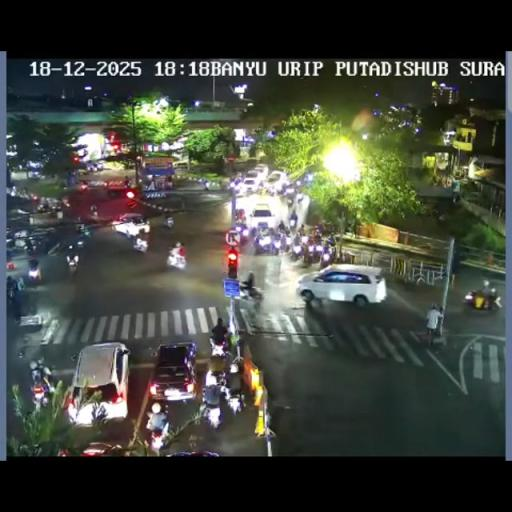Car: (68, 342, 130, 424), (297, 264, 387, 306), (148, 342, 198, 403), (111, 214, 150, 238), (249, 202, 275, 230), (76, 441, 122, 455), (106, 178, 134, 197), (266, 170, 288, 192), (242, 176, 262, 193), (252, 164, 270, 178)
Motorcycle: (144, 404, 170, 452), (30, 365, 56, 408), (468, 278, 499, 310), (6, 276, 26, 318), (423, 304, 443, 345), (203, 365, 227, 393), (240, 296, 259, 329), (240, 270, 262, 298), (254, 230, 278, 254), (225, 386, 244, 416), (202, 402, 222, 429), (209, 336, 230, 361), (166, 250, 186, 270), (232, 222, 250, 244), (28, 261, 42, 285), (320, 243, 334, 265), (290, 240, 304, 259), (132, 238, 148, 254), (276, 221, 290, 237), (46, 241, 62, 255), (302, 245, 313, 265), (68, 257, 78, 278), (74, 234, 86, 250), (79, 224, 91, 238), (24, 238, 36, 252), (230, 176, 242, 190), (283, 233, 294, 248), (228, 359, 239, 374), (162, 216, 174, 229), (326, 233, 336, 248), (312, 228, 322, 242), (249, 225, 258, 239), (61, 196, 71, 208), (90, 206, 98, 220), (48, 207, 58, 218), (80, 179, 89, 191), (298, 223, 306, 236), (452, 192, 460, 204), (86, 162, 95, 172), (95, 161, 105, 170), (296, 192, 304, 202), (301, 234, 309, 244), (286, 194, 292, 206), (260, 186, 268, 195), (202, 180, 209, 190), (56, 210, 62, 220), (76, 215, 82, 223)
